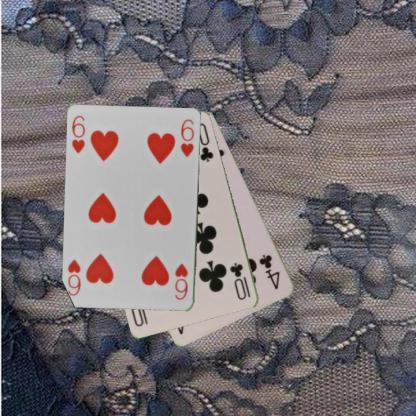10c: (228, 260, 252, 302)
4c: (257, 252, 282, 291)
6h: (69, 113, 87, 155), (172, 261, 190, 302)
